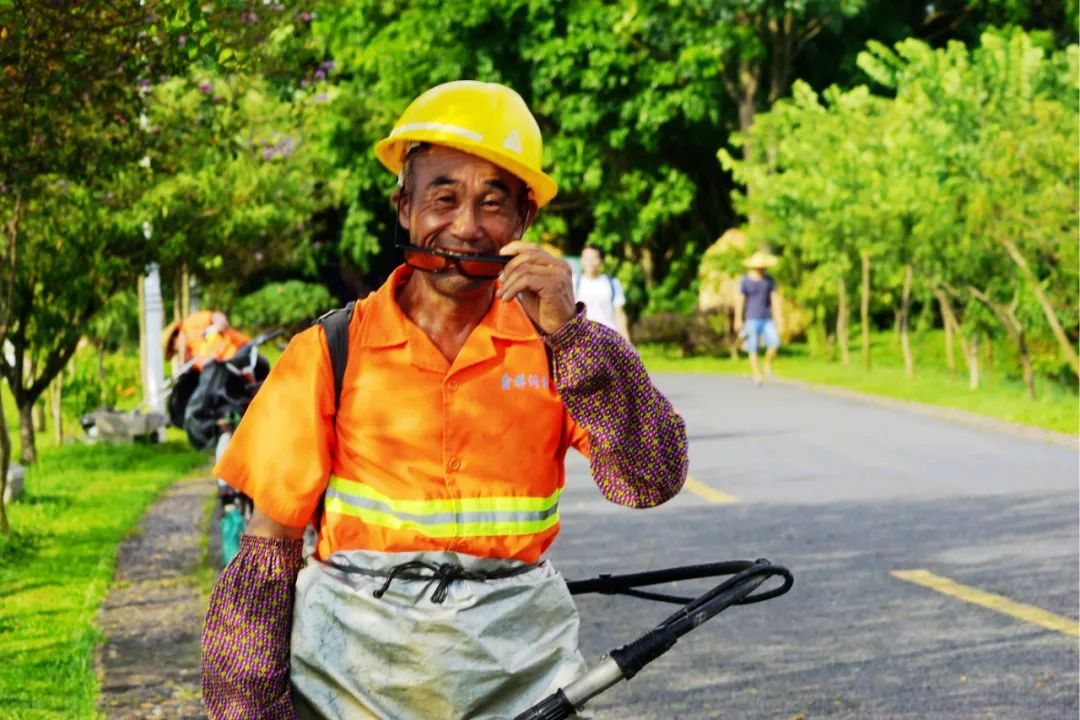safetyhat: (188, 54, 706, 701)
